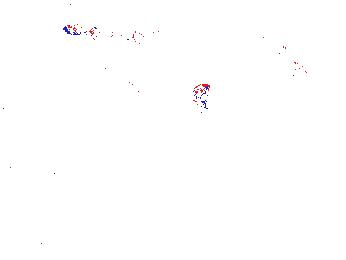X-ray fish: (141, 1, 189, 21)
glassfish: (68, 1, 204, 57)
red belly glassfish: (189, 82, 212, 108)
redtail glassfish: (269, 36, 321, 98), (61, 20, 136, 47), (265, 72, 326, 96)
